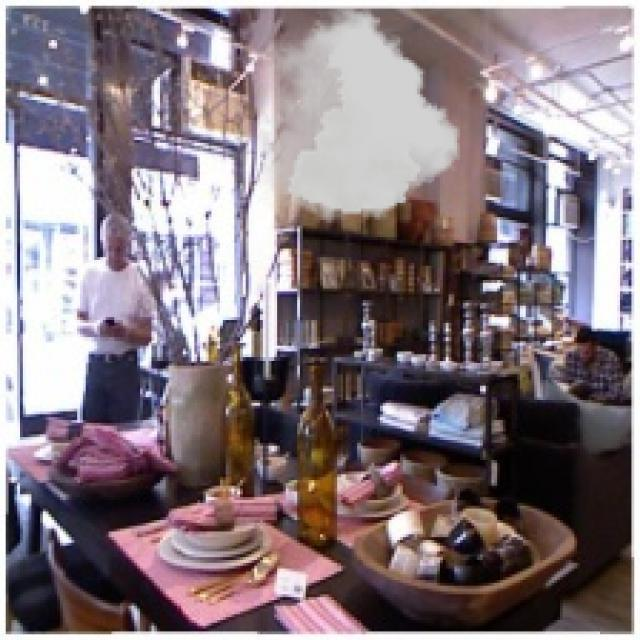Smoke: (257, 8, 460, 223)
